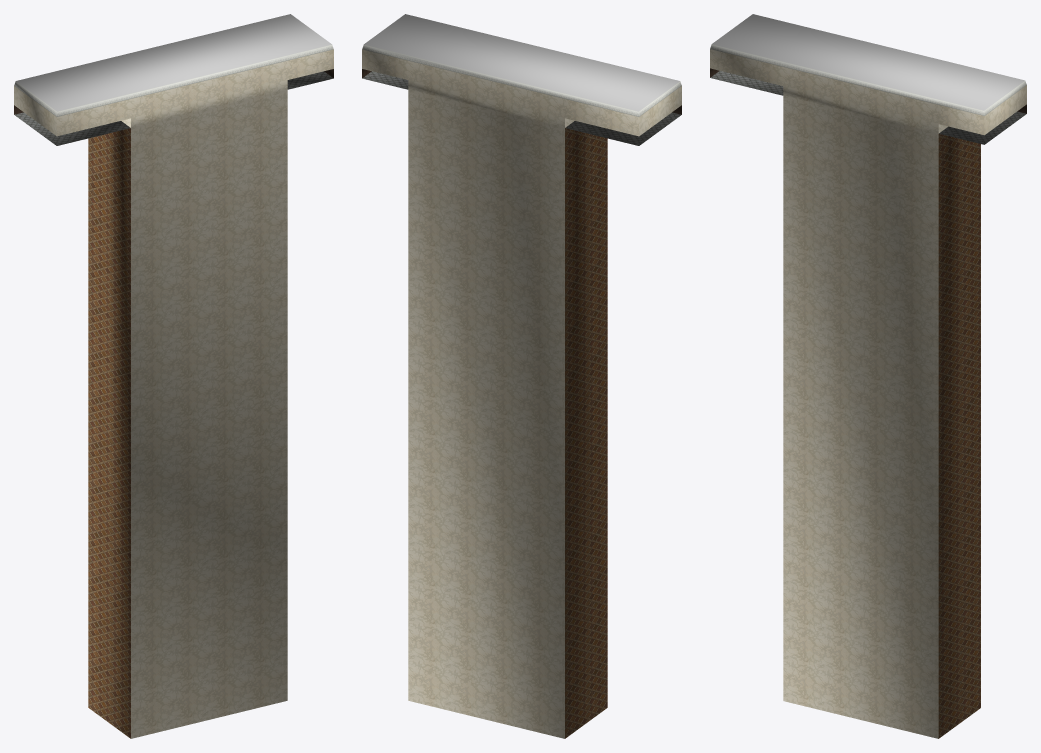
The model's file is Map2a.obj.
3 views of the same model, side by side, from view 1: azimuth 30°, elevation 25°; view 2: azimuth 150°, elevation 25°; view 3: azimuth 330°, elevation 25° (orthographic).
Size of the model in its own units: 59.8 by 133 by 16.
